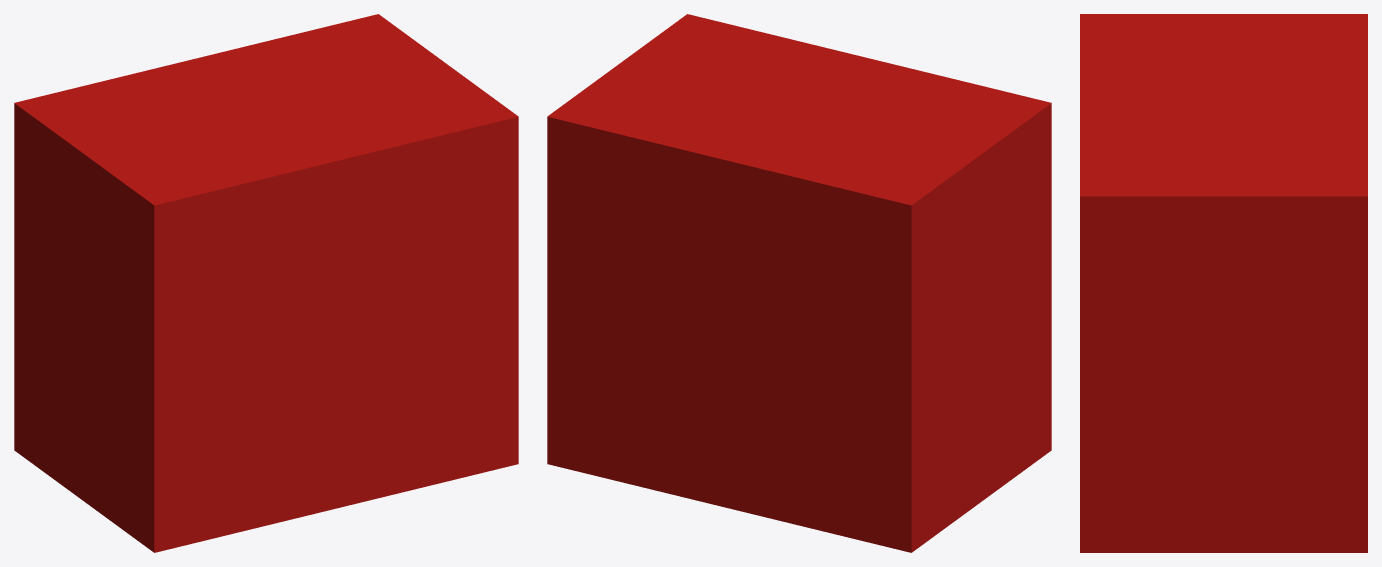
The model's file is retail.shop.basket_stack.glb.
3 views of the same model, side by side, from view 1: azimuth 30°, elevation 25°; view 2: azimuth 150°, elevation 25°; view 3: azimuth 270°, elevation 25° (orthographic). The views are drawn at different scales.
Visible parts, largest first — view 1: main__plastic_red; view 2: main__plastic_red; view 3: main__plastic_red.
Part boxes in pixels (<box>): main__plastic_red: <box>14,14,518,552</box>; main__plastic_red: <box>547,14,1051,552</box>; main__plastic_red: <box>1080,14,1367,552</box>.
Size of the model in its own units: 0.45 by 0.41 by 0.3.
